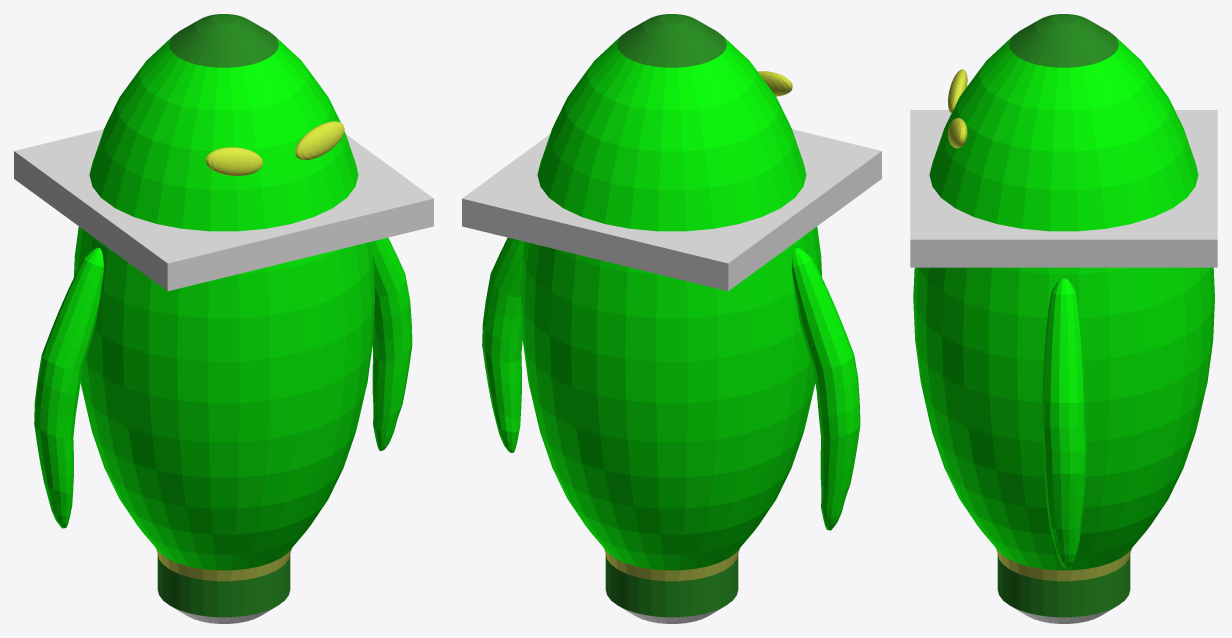
File: ARMascotv0.1.fbx
3 renders of one model, left to right at view 1: azimuth 30°, elevation 25°; view 2: azimuth 150°, elevation 25°; view 3: azimuth 270°, elevation 25°, orthographic.
Parts seen in each view (by area): view 1: Sphere, Cube, Sphere.001, Sphere.002; view 2: Sphere, Cube, Sphere.001; view 3: Sphere, Cube, Sphere.001, Sphere.002.
Part boxes in pixels (<box>): Sphere: <box>74,14,374,623</box>; Cube: <box>14,129,433,291</box>; Sphere.001: <box>34,237,412,528</box>; Sphere.002: <box>205,121,344,175</box>; Sphere: <box>521,14,821,623</box>; Cube: <box>462,129,881,291</box>; Sphere.001: <box>482,237,860,530</box>; Sphere: <box>913,14,1214,623</box>; Cube: <box>910,110,1217,267</box>; Sphere.001: <box>1042,278,1086,568</box>; Sphere.002: <box>948,69,967,148</box>.
Size of the model in its own units: 279 by 421 by 200.
